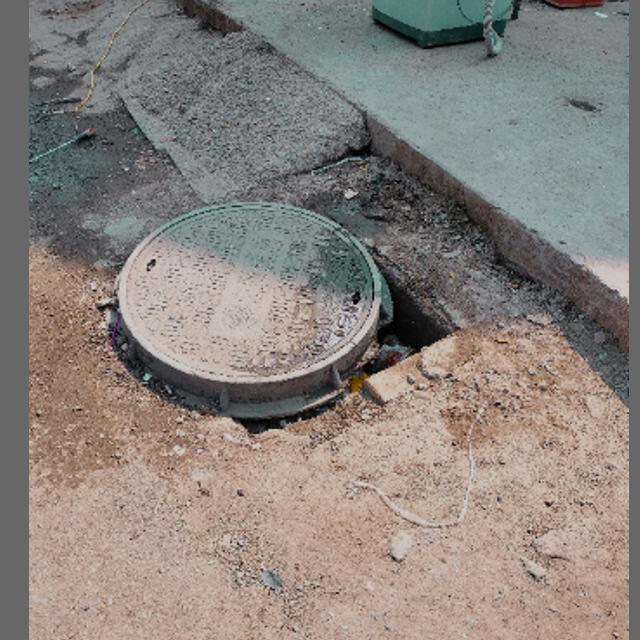circle: (101, 186, 433, 427)
